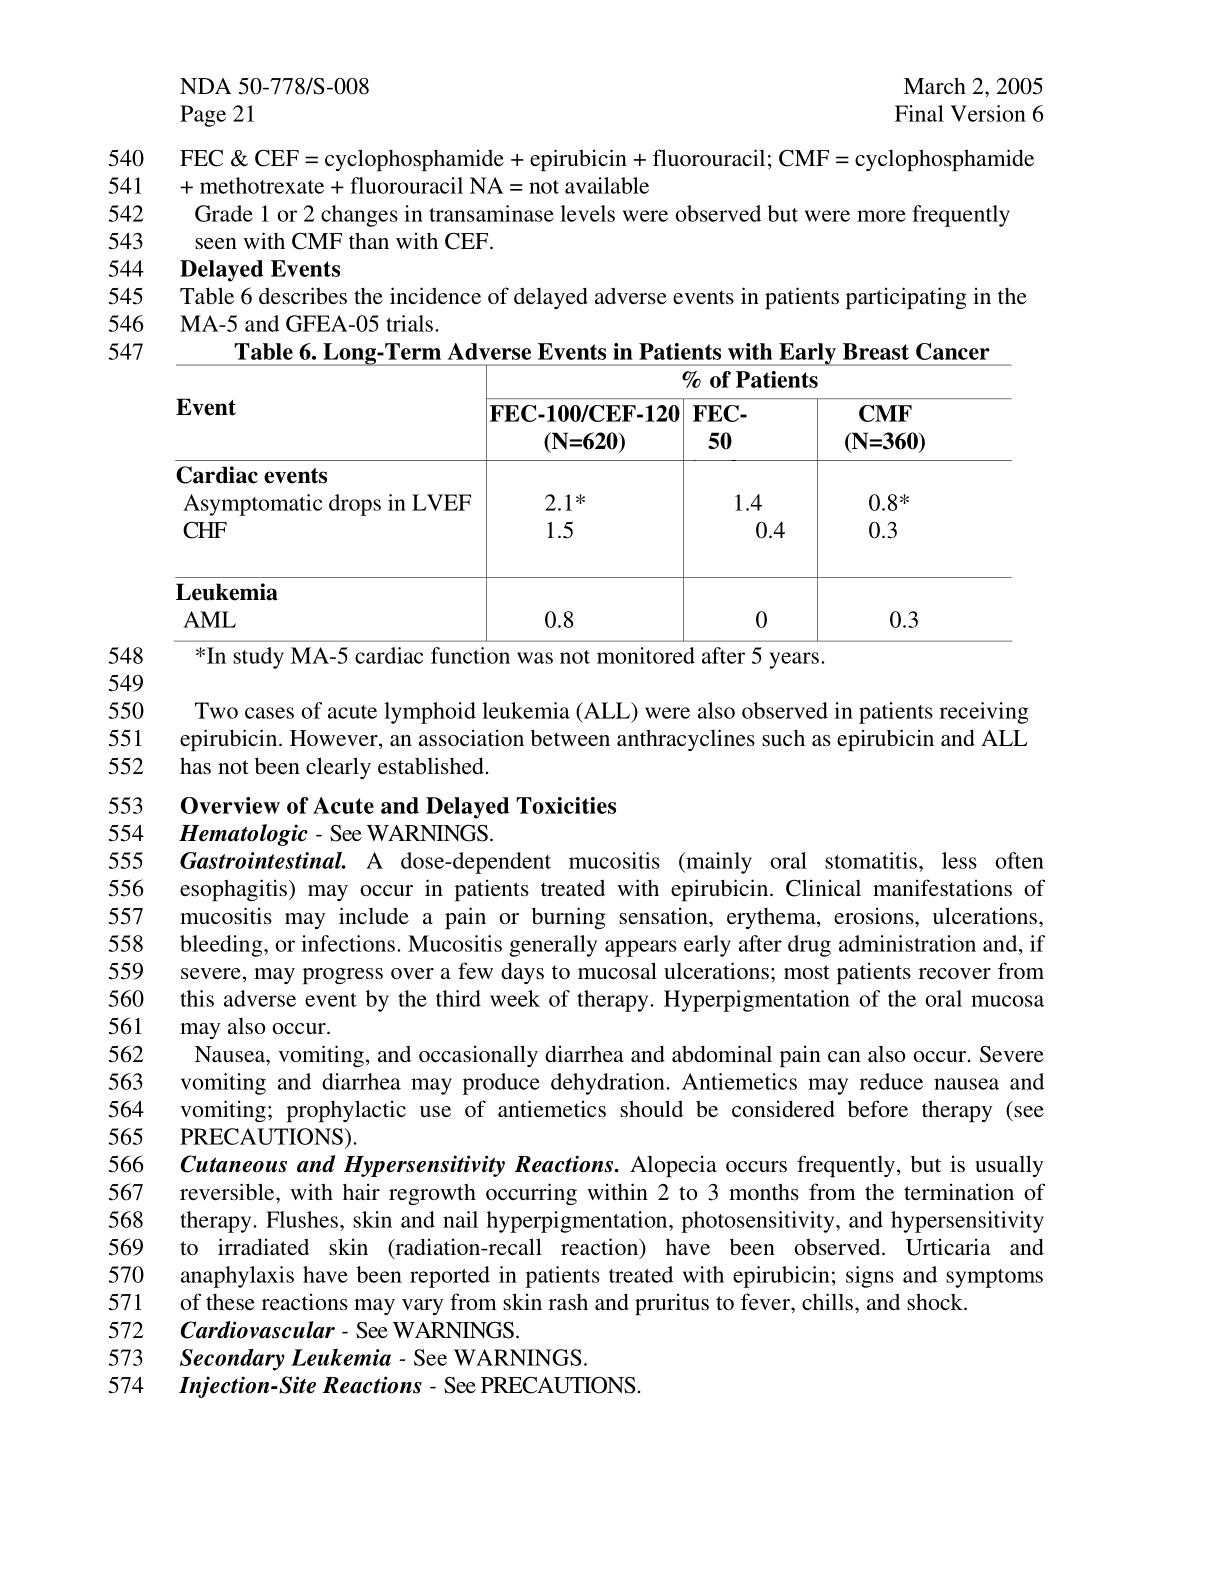partial_lined_merged_cells: (174, 363, 1016, 643)
